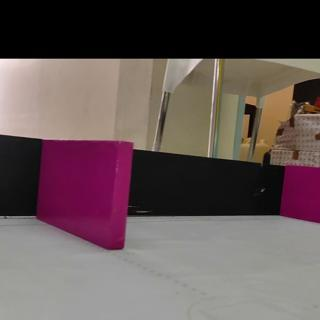xparking: (44, 139, 132, 250), (287, 167, 320, 224)
